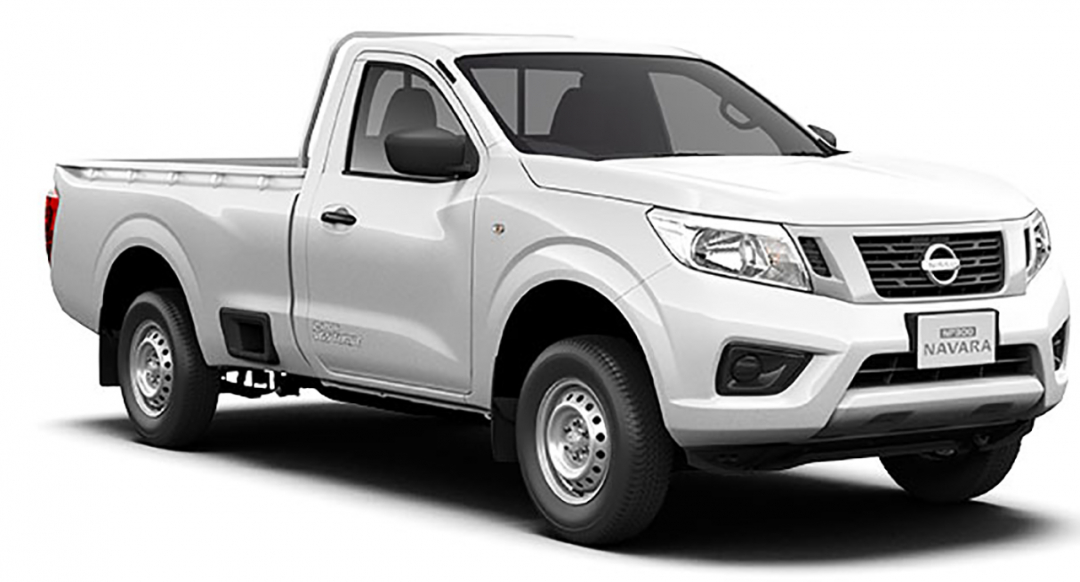pickup: (40, 27, 1070, 546)
